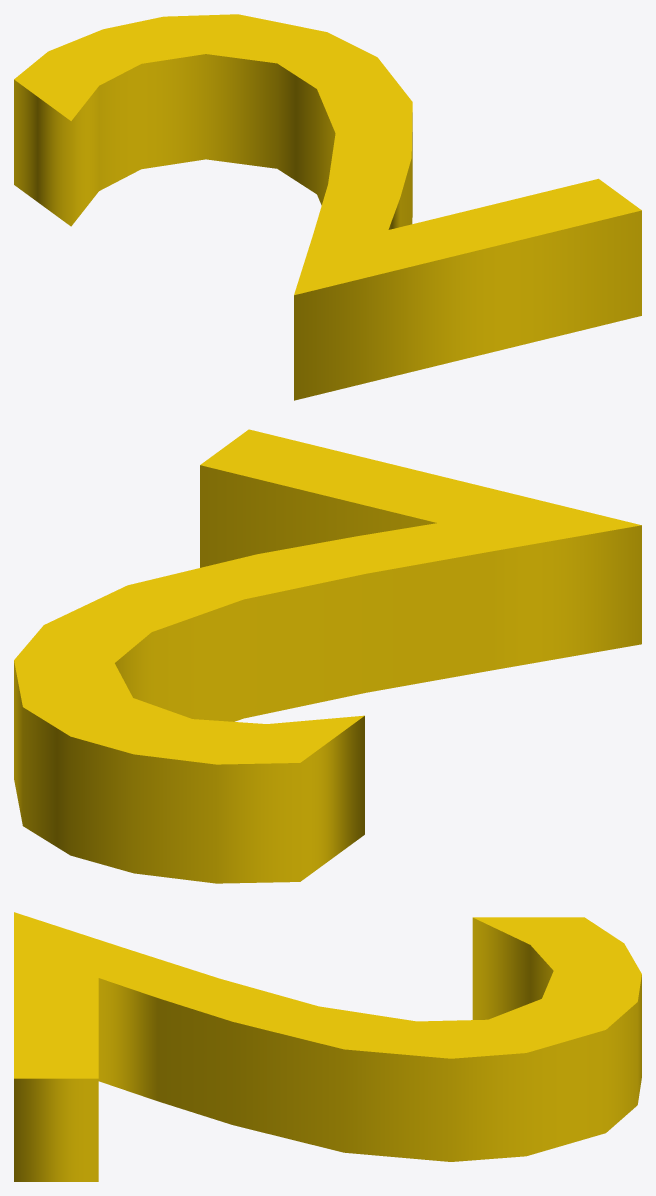
The model's file is two.glb.
3 renders of one model, top to bottom at view 1: azimuth 30°, elevation 25°; view 2: azimuth 150°, elevation 25°; view 3: azimuth 270°, elevation 25°, orthographic. The views are drawn at different scales.
Parts seen in each view (by area): view 1: Text.002; view 2: Text.002; view 3: Text.002.
Boxes of the visible parts, x1=… form: Text.002: x1=14, y1=14, x2=641, y2=400; Text.002: x1=14, y1=429, x2=641, y2=883; Text.002: x1=14, y1=912, x2=641, y2=1181.
Bounding box in the file's own units: 0.3456 × 0.1 × 0.5509.
Materials: 1 (1 with a texture image).
